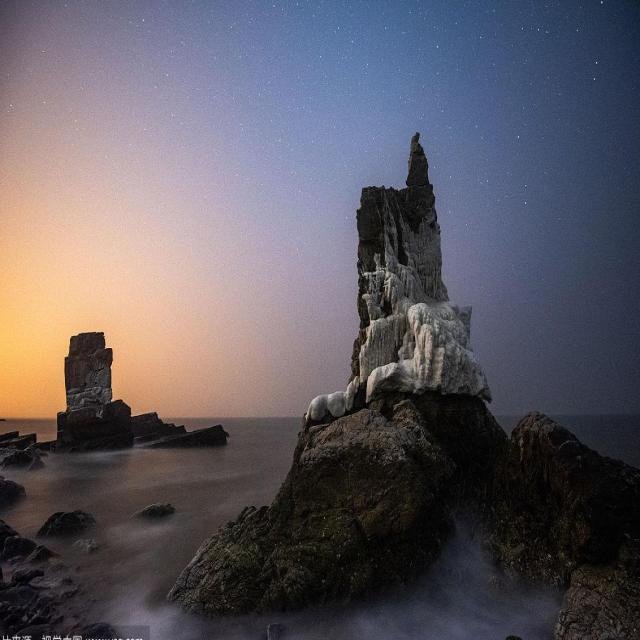reef: (266, 172, 615, 572), (54, 287, 226, 471)
